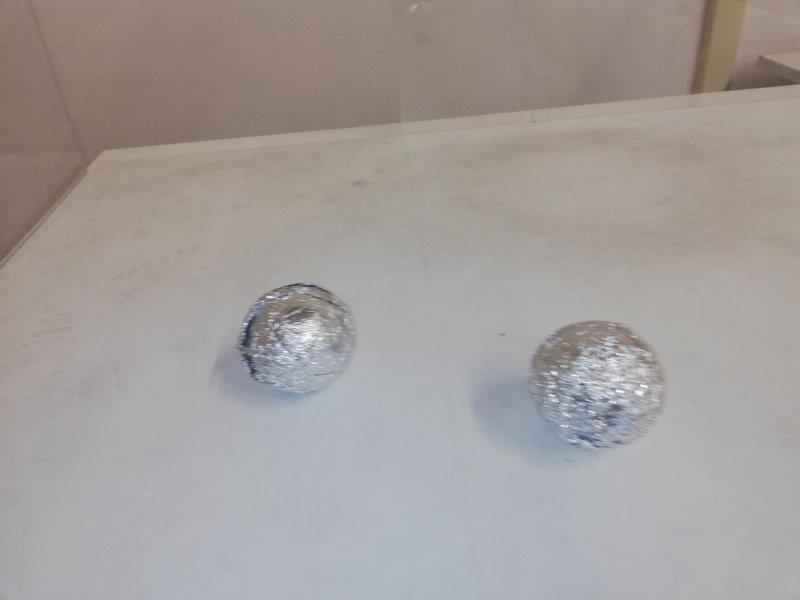bianca: (524, 320, 669, 449), (238, 283, 355, 392)
